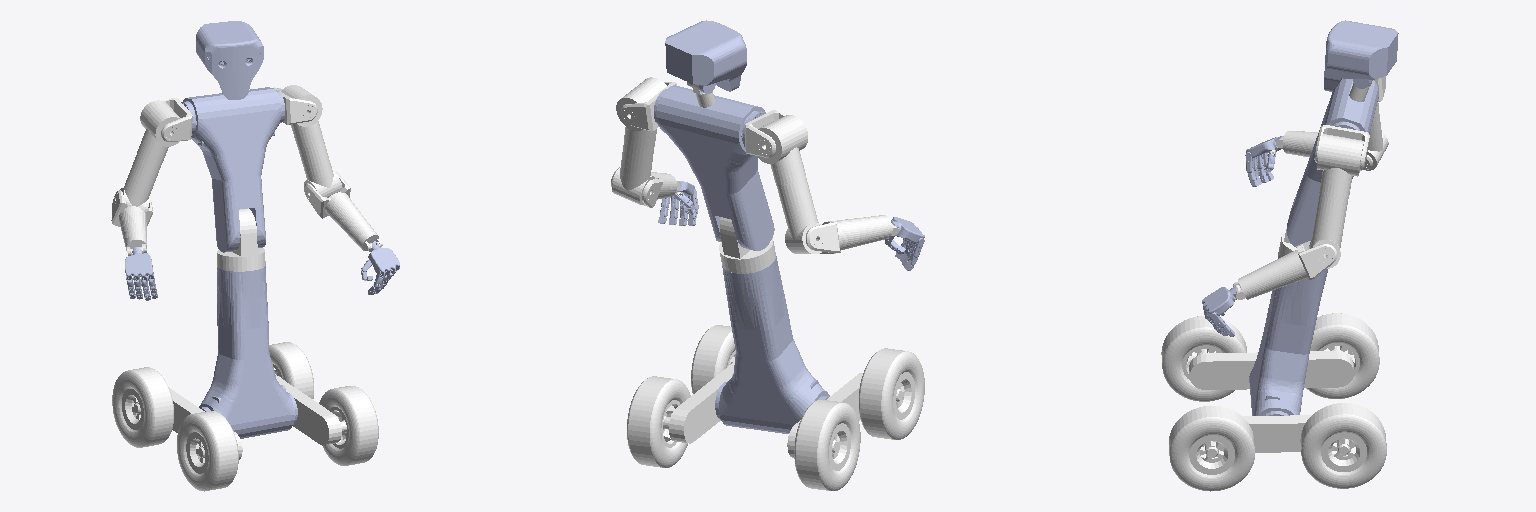
--- Render facts (derived) ---
The picture shows the robot from 3 angles, left to right: view 1: azimuth 30°, elevation 25°; view 2: azimuth 150°, elevation 25°; view 3: azimuth 270°, elevation 25°; orthographic projection.
Model rucobot with 62 links and 61 joints (60 continuous, 1 fixed), rooted at world, posed every joint at zero.
Links seen in each view (by area): view 1: base_link, Tors, shassi_r, shassi_l, golova, Sharnir_pojasa, plecho_r, predplechie_l, lokot_l, lokot_r, plecho_l, predplechie_r (+5 smaller); view 2: base_link, shassi_r, Tors, shassi_l, golova, plecho_r, lokot_r, lokot_l, Sharnir_pojasa, predplechie_r, plecho_l, sharnir_plecha_r (+2 smaller); view 3: shassi_l, shassi_r, base_link, golova, Tors, plecho_l, predplechie_l, lokot_l, sharnir_loktya_l, predplechie_r, sharnir_plecha_l, lokot_r (+1 smaller).
Link boxes in pixels (x1=…): base_link: x1=199, y1=266, x2=297, y2=438; Tors: x1=181, y1=87, x2=284, y2=252; shassi_r: x1=112, y1=367, x2=242, y2=491; shassi_l: x1=269, y1=342, x2=378, y2=465; golova: x1=196, y1=21, x2=263, y2=99; Sharnir_pojasa: x1=217, y1=208, x2=265, y2=271; plecho_r: x1=137, y1=100, x2=180, y2=163; predplechie_l: x1=325, y1=193, x2=382, y2=250; lokot_l: x1=297, y1=138, x2=342, y2=197; lokot_r: x1=120, y1=154, x2=161, y2=209; plecho_l: x1=281, y1=85, x2=322, y2=145; predplechie_r: x1=119, y1=206, x2=146, y2=255; base_link: x1=715, y1=256, x2=829, y2=433; shassi_r: x1=787, y1=348, x2=924, y2=490; Tors: x1=654, y1=85, x2=774, y2=250; shassi_l: x1=627, y1=325, x2=735, y2=467; golova: x1=665, y1=20, x2=746, y2=93; plecho_r: x1=757, y1=115, x2=807, y2=184; lokot_r: x1=776, y1=178, x2=821, y2=253; lokot_l: x1=612, y1=138, x2=654, y2=204; Sharnir_pojasa: x1=719, y1=217, x2=775, y2=273; predplechie_r: x1=822, y1=215, x2=898, y2=250; plecho_l: x1=616, y1=77, x2=666, y2=147; sharnir_plecha_r: x1=745, y1=110, x2=785, y2=157; shassi_l: x1=1169, y1=403, x2=1386, y2=491; shassi_r: x1=1161, y1=313, x2=1379, y2=401; base_link: x1=1249, y1=252, x2=1327, y2=415; golova: x1=1324, y1=20, x2=1398, y2=91; Tors: x1=1287, y1=78, x2=1378, y2=247; plecho_l: x1=1317, y1=134, x2=1364, y2=198; predplechie_l: x1=1233, y1=250, x2=1307, y2=299; lokot_l: x1=1309, y1=193, x2=1348, y2=268; sharnir_loktya_l: x1=1296, y1=241, x2=1336, y2=279; predplechie_r: x1=1276, y1=131, x2=1318, y2=157; sharnir_plecha_l: x1=1314, y1=125, x2=1369, y2=169; lokot_r: x1=1366, y1=110, x2=1388, y2=170.
Bounding box of the posed robot: 0.9582 × 0.719 × 1.43 m (x, y, z).
Meshes: 61 distinct files referenced, 61 mesh visuals loaded (61 binary STL).

URDF robot description (rucobot):
<robot
  name="rucobot">



 <gazebo>
  <plugin name="gazebo_ros_control" filename="[local-path]/rucobot_gazebo/gazebo_rucobot_plugin/build/librucobot_plugin.so">
    <robotNamespace>/rucobot</robotNamespace>
  </plugin>
</gazebo>

<link name="world" />
<joint name="world_joint"  type="fixed">
    <origin xyz="0 0 1.0" rpy="0 0 0" />
    <parent link="world"/>
    <child link="base_link"/>
</joint>



  <link
    name="base_link">
    <inertial>
      <origin
        xyz="0.00896240562713546 0.143186728221046 -0.0666263036048991"
        rpy="0 0 0" />
      <mass
        value="110.693325289998" />
      <inertia
        ixx="3.27626628742202"
        ixy="-0.181122746313554"
        ixz="0.0522061358243045"
        iyy="0.80236382109001"
        iyz="0.514583322796761"
        izz="3.55269170853019" />
    </inertial>
    <visual>
      <origin
        xyz="0 0 0"
        rpy="0 0 0" />
      <geometry>
        <mesh
          filename="package://rucobot/meshes/base_link.STL" />
      </geometry>
      <material
        name="">
        <color
          rgba="0.792156862745098 0.819607843137255 0.933333333333333 1" />
      </material>
    </visual>
    <collision>
      <origin
        xyz="0 0 0"
        rpy="0 0 0" />
      <geometry>
        <mesh
          filename="package://rucobot/meshes/base_link.STL" />
      </geometry>
    </collision>
  </link>
  <link
    name="Sharnir_pojasa">
    <inertial>
      <origin
        xyz="-2.25514051876985E-17 0.0752881183526605 -4.16333634234434E-17"
        rpy="0 0 0" />
      <mass
        value="2.89543871345231" />
      <inertia
        ixx="0.0130020130921996"
        ixy="2.80537312130624E-18"
        ixz="-1.30104260698261E-18"
        iyy="0.00713817950157839"
        iyz="2.49366499671666E-18"
        izz="0.0112358733148645" />
    </inertial>
    <visual>
      <origin
        xyz="0 0 0"
        rpy="0 0 0" />
      <geometry>
        <mesh
          filename="package://rucobot/meshes/Sharnir_pojasa.STL" />
      </geometry>
      <material
        name="">
        <color
          rgba="1 1 1 1" />
      </material>
    </visual>
    <collision>
      <origin
        xyz="0 0 0"
        rpy="0 0 0" />
      <geometry>
        <mesh
          filename="package://rucobot/meshes/Sharnir_pojasa.STL" />
      </geometry>
    </collision>
  </link>
  <joint
    name="j_Sharnir_pojasa"
    type="continuous">
    <origin
      xyz="0.0324436639883371 0.12429534174066 0.460919751635306"
      rpy="1.38421395302276 0.0519209406376816 -0.118124034255159" />
    <parent
      link="base_link" />
    <child
      link="Sharnir_pojasa" />
    <axis
      xyz="0 1 0" />
  </joint>
  <link
    name="Tors">
    <inertial>
      <origin
        xyz="7.47907391487196E-07 0.255052816813798 -3.41754965509367E-05"
        rpy="0 0 0" />
      <mass
        value="91.0754857328118" />
      <inertia
        ixx="1.7390726190761"
        ixy="3.01102176554317E-06"
        ixz="-9.22264127997674E-07"
        iyy="0.642500384537508"
        iyz="0.000215463623916334"
        izz="2.11023263578958" />
    </inertial>
    <visual>
      <origin
        xyz="0 0 0"
        rpy="0 0 0" />
      <geometry>
        <mesh
          filename="package://rucobot/meshes/Tors.STL" />
      </geometry>
      <material
        name="">
        <color
          rgba="0.792156862745098 0.819607843137255 0.933333333333333 1" />
      </material>
    </visual>
    <collision>
      <origin
        xyz="0 0 0"
        rpy="0 0 0" />
      <geometry>
        <mesh
          filename="package://rucobot/meshes/Tors.STL" />
      </geometry>
    </collision>
  </link>
  <joint
    name="j_Tors"
    type="continuous">
    <origin
      xyz="0 0.128188778698563 0"
      rpy="-0.128015279653219 1.62370117351429E-15 1.72431513512095E-15" />
    <parent
      link="Sharnir_pojasa" />
    <child
      link="Tors" />
    <axis
      xyz="1 0 0" />
  </joint>
  <link
    name="sharnir_plecha_r">
    <inertial>
      <origin
        xyz="-5.55111512312578E-17 -0.000417919871589234 0.0464830429041732"
        rpy="0 0 0" />
      <mass
        value="0.483647848803237" />
      <inertia
        ixx="0.000689027325543671"
        ixy="3.14079816841895E-18"
        ixz="-8.40256683676266E-19"
        iyy="0.00196973024679347"
        iyz="5.56154264020343E-05"
        izz="0.00183169819086114" />
    </inertial>
    <visual>
      <origin
        xyz="0 0 0"
        rpy="0 0 0" />
      <geometry>
        <mesh
          filename="package://rucobot/meshes/sharnir_plecha_r.STL" />
      </geometry>
      <material
        name="">
        <color
          rgba="1 1 1 1" />
      </material>
    </visual>
    <collision>
      <origin
        xyz="0 0 0"
        rpy="0 0 0" />
      <geometry>
        <mesh
          filename="package://rucobot/meshes/sharnir_plecha_r.STL" />
      </geometry>
    </collision>
  </link>
  <joint
    name="j_sharnir_plecha_r"
    type="continuous">
    <origin
      xyz="-0.152559658277971 0.390000000000005 0"
      rpy="1.5707963267949 -1.20891824044153 -1.5707963267949" />
    <parent
      link="Tors" />
    <child
      link="sharnir_plecha_r" />
    <axis
      xyz="0 0 -1" />
  </joint>
  <link
    name="plecho_r">
    <inertial>
      <origin
        xyz="-3.57087203139983E-08 -0.0251544798237647 5.104894745811E-08"
        rpy="0 0 0" />
      <mass
        value="2.34279641012503" />
      <inertia
        ixx="0.0078816597365252"
        ixy="-2.32104730132411E-09"
        ixz="-5.87356074909819E-10"
        iyy="0.00430171909143169"
        iyz="5.96776679538235E-09"
        izz="0.00692854772981026" />
    </inertial>
    <visual>
      <origin
        xyz="0 0 0"
        rpy="0 0 0" />
      <geometry>
        <mesh
          filename="package://rucobot/meshes/plecho_r.STL" />
      </geometry>
      <material
        name="">
        <color
          rgba="1 1 1 1" />
      </material>
    </visual>
    <collision>
      <origin
        xyz="0 0 0"
        rpy="0 0 0" />
      <geometry>
        <mesh
          filename="package://rucobot/meshes/plecho_r.STL" />
      </geometry>
    </collision>
  </link>
  <joint
    name="j_plecho_r"
    type="continuous">
    <origin
      xyz="0 -0.0079999999999999 0.0934403417220299"
      rpy="-1.57079632679491 1.25964358109242 -1.57079632679491" />
    <parent
      link="sharnir_plecha_r" />
    <child
      link="plecho_r" />
    <axis
      xyz="0 0 1" />
  </joint>
  <link
    name="lokot_r">
    <inertial>
      <origin
        xyz="-6.79035919437521E-08 -0.156514593189435 -1.94538884668027E-07"
        rpy="0 0 0" />
      <mass
        value="2.01481430087266" />
      <inertia
        ixx="0.00923322974059326"
        ixy="1.02896168592846E-08"
        ixz="7.84993727854545E-09"
        iyy="0.00229149406048785"
        iyz="2.4371602142312E-08"
        izz="0.009136443859641" />
    </inertial>
    <visual>
      <origin
        xyz="0 0 0"
        rpy="0 0 0" />
      <geometry>
        <mesh
          filename="package://rucobot/meshes/lokot_r.STL" />
      </geometry>
      <material
        name="">
        <color
          rgba="1 1 1 1" />
      </material>
    </visual>
    <collision>
      <origin
        xyz="0 0 0"
        rpy="0 0 0" />
      <geometry>
        <mesh
          filename="package://rucobot/meshes/lokot_r.STL" />
      </geometry>
    </collision>
  </link>
  <joint
    name="j_lokot_r"
    type="continuous">
    <origin
      xyz="0 -0.082274948812524 0"
      rpy="-4.72451924255783E-17 1.27265955777084 4.72451924255783E-17" />
    <parent
      link="plecho_r" />
    <child
      link="lokot_r" />
    <axis
      xyz="0 1 0" />
  </joint>
  <link
    name="sharnir_loktya_r">
    <inertial>
      <origin
        xyz="0.0012000000000002 0.00752035460033429 -0.0437637690424815"
        rpy="0 0 0" />
      <mass
        value="0.413649568915566" />
      <inertia
        ixx="0.000609935633827668"
        ixy="9.3173624197973E-19"
        ixz="3.52365706057789E-19"
        iyy="0.0012155913352192"
        iyz="5.49949777303547E-05"
        izz="0.00106159012481743" />
    </inertial>
    <visual>
      <origin
        xyz="0 0 0"
        rpy="0 0 0" />
      <geometry>
        <mesh
          filename="package://rucobot/meshes/sharnir_loktya_r.STL" />
      </geometry>
      <material
        name="">
        <color
          rgba="1 1 1 1" />
      </material>
    </visual>
    <collision>
      <origin
        xyz="0 0 0"
        rpy="0 0 0" />
      <geometry>
        <mesh
          filename="package://rucobot/meshes/sharnir_loktya_r.STL" />
      </geometry>
    </collision>
  </link>
  <joint
    name="j_sharnir_loktya_r"
    type="continuous">
    <origin
      xyz="0 -0.219725051187477 0"
      rpy="2.11707742464578 -1.57079630572147 1.18530245986557" />
    <parent
      link="lokot_r" />
    <child
      link="sharnir_loktya_r" />
    <axis
      xyz="1 0 0" />
  </joint>
  <link
    name="predplechie_r">
    <inertial>
      <origin
        xyz="-1.7798515558054E-06 -3.95550856513438E-08 0.0351725822698449"
        rpy="0 0 0" />
      <mass
        value="1.44692785130132" />
      <inertia
        ixx="0.00554237235769671"
        ixy="2.92450993731255E-09"
        ixz="3.43553871257052E-07"
        iyy="0.00555465523324006"
        iyz="-6.73221239377443E-09"
        izz="0.00121510080819449" />
    </inertial>
    <visual>
      <origin
        xyz="0 0 0"
        rpy="0 0 0" />
      <geometry>
        <mesh
          filename="package://rucobot/meshes/predplechie_r.STL" />
      </geometry>
      <material
        name="">
        <color
          rgba="1 1 1 1" />
      </material>
    </visual>
    <collision>
      <origin
        xyz="0 0 0"
        rpy="0 0 0" />
      <geometry>
        <mesh
          filename="package://rucobot/meshes/predplechie_r.STL" />
      </geometry>
    </collision>
  </link>
  <joint
    name="j_predplechie_r"
    type="continuous">
    <origin
      xyz="0.00119999999999998 0.00799999999999995 -0.133508449810852"
      rpy="3.14159265358979 -1.11022302462516E-15 -0.53391242034869" />
    <parent
      link="sharnir_loktya_r" />
    <child
      link="predplechie_r" />
    <axis
      xyz="0 0 1" />
  </joint>
  <link
    name="zapastie_r">
    <inertial>
      <origin
        xyz="-1.04664132916099E-09 -0.00589607999069064 -1.04964131830698E-09"
        rpy="0 0 0" />
      <mass
        value="0.0217508242970435" />
      <inertia
        ixx="4.06194784093122E-06"
        ixy="-2.45268871910205E-16"
        ixz="8.50053638797777E-14"
        iyy="3.36484861459115E-06"
        iyz="-3.8697037155607E-14"
        izz="2.22565604195955E-06" />
    </inertial>
    <visual>
      <origin
        xyz="0 0 0"
        rpy="0 0 0" />
      <geometry>
        <mesh
          filename="package://rucobot/meshes/zapastie_r.STL" />
      </geometry>
      <material
        name="">
        <color
          rgba="1 1 1 1" />
      </material>
    </visual>
    <collision>
      <origin
        xyz="0 0 0"
        rpy="0 0 0" />
      <geometry>
        <mesh
          filename="package://rucobot/meshes/zapastie_r.STL" />
      </geometry>
    </collision>
  </link>
  <joint
    name="j_zapastie_r"
    type="continuous">
    <origin
      xyz="0 0 0.156491550189148"
      rpy="-1.57079632679489 0.440819351327512 -1.57079632679489" />
    <parent
      link="predplechie_r" />
    <child
      link="zapastie_r" />
    <axis
      xyz="0 0 1" />
  </joint>
  <link
    name="ladon_r">
    <inertial>
      <origin
        xyz="-6.47388532412085E-05 0.0148875426551344 -0.0600543658421324"
        rpy="0 0 0" />
      <mass
        value="1.08106591463832" />
      <inertia
        ixx="0.000891133654287213"
        ixy="6.32719482747059E-06"
        ixz="-6.26660419026385E-05"
        iyy="0.00150683429989842"
        iyz="6.06421193468183E-05"
        izz="0.000901985440312453" />
    </inertial>
    <visual>
      <origin
        xyz="0 0 0"
        rpy="0 0 0" />
      <geometry>
        <mesh
          filename="package://rucobot/meshes/ladon_r.STL" />
      </geometry>
      <material
        name="">
        <color
          rgba="0.792156862745098 0.819607843137255 0.933333333333333 1" />
      </material>
    </visual>
    <collision>
      <origin
        xyz="0 0 0"
        rpy="0 0 0" />
      <geometry>
        <mesh
          filename="package://rucobot/meshes/ladon_r.STL" />
      </geometry>
    </collision>
  </link>
  <joint
    name="j_ladon_r"
    type="continuous">
    <origin
      xyz="0.01 0 0"
      rpy="9.15512301598293E-15 1.54957284180814 1.57079632679491" />
    <parent
      link="zapastie_r" />
    <child
      link="ladon_r" />
    <axis
      xyz="0 1 0" />
  </joint>
  <link
    name="bolshoj_osnova_r">
    <inertial>
      <origin
        xyz="4.19799951745237E-10 -0.00335807108592345 -0.0130909322427476"
        rpy="0 0 0" />
      <mass
        value="0.00474130036735066" />
      <inertia
        ixx="3.37852137237324E-07"
        ixy="-4.86828927839104E-14"
        ixz="-7.04558877625359E-15"
        iyy="3.1589290051608E-07"
        iyz="-2.3864698266401E-10"
        izz="1.60033928668896E-07" />
    </inertial>
    <visual>
      <origin
        xyz="0 0 0"
        rpy="0 0 0" />
      <geometry>
        <mesh
          filename="package://rucobot/meshes/bolshoj_osnova_r.STL" />
      </geometry>
      <material
        name="">
        <color
          rgba="1 1 1 1" />
      </material>
    </visual>
    <collision>
      <origin
        xyz="0 0 0"
        rpy="0 0 0" />
      <geometry>
        <mesh
          filename="package://rucobot/meshes/bolshoj_osnova_r.STL" />
      </geometry>
    </collision>
  </link>
  <joint
    name="j_bolshoj_osnova_r"
    type="continuous">
    <origin
      xyz="-0.0286581524376238 -0.0091182634575131 -0.034153456124651"
      rpy="-0.538307860312293 0.724748995496491 2.40837849957916" />
    <parent
      link="ladon_r" />
    <child
      link="bolshoj_osnova_r" />
    <axis
      xyz="0 0 1" />
  </joint>
  <link
    name="proximal_falang_bolshoj_r">
    <inertial>
      <origin
        xyz="-5.23938518520728E-06 -5.2210677090922E-05 -0.0239061195962711"
        rpy="0 0 0" />
      <mass
        value="0.0127054069053591" />
      <inertia
        ixx="2.86639320583508E-06"
        ixy="6.97115154240719E-10"
        ixz="2.23121531964007E-09"
        iyy="3.05917929449315E-06"
        iyz="-1.83328751292656E-08"
        izz="9.46060157823877E-07" />
    </inertial>
    <visual>
      <origin
        xyz="0 0 0"
        rpy="0 0 0" />
      <geometry>
        <mesh
          filename="package://rucobot/meshes/proximal_falang_bolshoj_r.STL" />
      </geometry>
      <material
        name="">
        <color
          rgba="0.792156862745098 0.819607843137255 0.933333333333333 1" />
      </material>
    </visual>
    <collision>
      <origin
        xyz="0 0 0"
        rpy="0 0 0" />
      <geometry>
        <mesh
          filename="package://rucobot/meshes/proximal_falang_bolshoj_r.STL" />
      </geometry>
    </collision>
  </link>
  <joint
    name="j_proximal_falang_bolshoj_r"
    type="continuous">
    <origin
      xyz="0 -0.00450030689800585 -0.0119955807398704"
      rpy="-1.53541465104474 3.21964677141295E-15 -3.14159265358979" />
    <parent
      link="bolshoj_osnova_r" />
    <child
      link="proximal_falang_bolshoj_r" />
    <axis
      xyz="-1 0 0" />
  </joint>
  <link
    name="medial_falanga_bolshoy_r">
    <inertial>
      <origin
        xyz="6.55384677013954E-06 0.000130045033781889 -0.0119984514335008"
        rpy="0 0 0" />
      <mass
        value="0.00791977216682233" />
      <inertia
        ixx="1.05619347410482E-06"
        ixy="-4.46120500449778E-10"
        ixz="3.65251666165924E-10"
        iyy="1.11379864890593E-06"
        iyz="1.76450959601349E-09"
        izz="4.23085079342307E-07" />
    </inertial>
    <visual>
      <origin
        xyz="0 0 0"
        rpy="0 0 0" />
      <geometry>
        <mesh
          filename="package://rucobot/meshes/medial_falanga_bolshoy_r.STL" />
      </geometry>
      <material
        name="">
        <color
          rgba="0.792156862745098 0.819607843137255 0.933333333333333 1" />
      </material>
    </visual>
    <collision>
      <origin
        xyz="0 0 0"
        rpy="0 0 0" />
      <geometry>
        <mesh
          filename="package://rucobot/meshes/medial_falanga_bolshoy_r.STL" />
      </geometry>
    </collision>
  </link>
  <joint
    name="j_medial_falanga_bolshoy_r"
    type="continuous">
    <origin
      xyz="0 0 -0.046"
      rpy="1.36758612535518 2.77555756156289E-15 -3.77475828372553E-15" />
    <parent
      link="proximal_falang_bolshoj_r" />
    <child
      link="medial_falanga_bolshoy_r" />
    <axis
      xyz="-1 0 0" />
  </joint>
  <link
    name="distal_falang_bolshoy_r">
    <inertial>
      <origin
        xyz="3.92154068756811E-05 0.000417281517116508 -0.0118731915217587"
        rpy="0 0 0" />
      <mass
        value="0.00792541591651875" />
      <inertia
        ixx="8.03956797183496E-07"
        ixy="7.6829507535464E-10"
        ixz="-4.5580873059853E-10"
        iyy="8.45143255076546E-07"
        iyz="2.03832775785514E-08"
        izz="3.60348680190019E-07" />
    </inertial>
    <visual>
      <origin
        xyz="0 0 0"
        rpy="0 0 0" />
      <geometry>
        <mesh
          filename="package://rucobot/meshes/distal_falang_bolshoy_r.STL" />
      </geometry>
      <material
        name="">
        <color
          rgba="0.792156862745098 0.819607843137255 0.933333333333333 1" />
      </material>
    </visual>
    <collision>
      <origin
        xyz="0 0 0"
        rpy="0 0 0" />
      <geometry>
        <mesh
          filename="package://rucobot/meshes/distal_falang_bolshoy_r.STL" />
      </geometry>
    </collision>
  </link>
  <joint
    name="j_distal_falang_bolshoy_r"
    type="continuous">
    <origin
      xyz="0 0 -0.028"
      rpy="0.100089852496194 1.38777878078145E-16 4.71844785465692E-16" />
    <parent
      link="medial_falanga_bolshoy_r" />
    <child
      link="distal_falang_bolshoy_r" />
    <axis
      xyz="-1 0 0" />
  </joint>
  <link
    name="sharnir_palec_ukaz_r">
    <inertial>
      <origin
        xyz="-0.000193153382844535 0.0128827511145122 0.000976445564656314"
        rpy="0 0 0" />
      <mass
        value="0.00247996543491179" />
      <inertia
        ixx="1.41865551830605E-07"
        ixy="-9.26852843332831E-10"
        ixz="3.83359475079865E-10"
        iyy="9.2261616247985E-08"
        iyz="2.5931712623689E-09"
        izz="1.17684729475178E-07" />
    </inertial>
    <visual>
      <origin
        xyz="0 0 0"
        rpy="0 0 0" />
      <geometry>
        <mesh
          filename="package://rucobot/meshes/sharnir_palec_ukaz_r.STL" />
      </geometry>
      <material
        name="">
        <color
          rgba="0.792156862745098 0.819607843137255 0.933333333333333 1" />
      </material>
    </visual>
    <collision>
      <origin
        xyz="0 0 0"
        rpy="0 0 0" />
      <geometry>
        <mesh
          filename="package://rucobot/meshes/sharnir_palec_ukaz_r.STL" />
      </geometry>
    </collision>
  </link>
  <joint
    name="j_sharnir_palec_ukaz_r"
    type="continuous">
    <origin
      xyz="-0.0344897812276514 0 -0.108498873951481"
      rpy="1.05474492964217E-15 -0.00791715577020176 -6.38398246888684E-16" />
    <parent
      link="ladon_r" />
    <child
      link="sharnir_palec_ukaz_r" />
    <axis
      xyz="0 1 0" />
  </joint>
  <link
    name="proximal_falanga_ukaz_r">
    <inertial>
      <origin
        xyz="-5.26035150005821E-06 -0.000891513361063051 -0.0220907411071198"
        rpy="0 0 0" />
      <mass
        value="0.0127053504794185" />
      <inertia
        ixx="2.86639045662399E-06"
        ixy="6.97094460055562E-10"
        ixz="2.23310362197986E-09"
        iyy="3.05917464287808E-06"
        iyz="-1.83344291554736E-08"
        izz="9.4605504612959E-07" />
    </inertial>
    <visual>
      <origin
        xyz="0 0 0"
        rpy="0 0 0" />
      <geometry>
        <mesh
          filename="package://rucobot/meshes/proximal_falanga_ukaz_r.STL" />
      </geometry>
      <material
        name="">
        <color
          rgba="0.792156862745098 0.819607843137255 0.933333333333333 1" />
      </material>
    </visual>
    <collision>
      <origin
        xyz="0 0 0"
        rpy="0 0 0" />
      <geometry>
        <mesh
          filename="package://rucobot/meshes/proximal_falanga_ukaz_r.STL" />
      </geometry>
    </collision>
  </link>
  <joint
    name="j_proximal_falanga_ukaz_r"
    type="continuous">
    <origin
      xyz="0 0.0100000000000001 0"
      rpy="1.1377297013671 -2.1094237467878E-15 -3.14159265358979" />
    <parent
      link="sharnir_palec_ukaz_r" />
    <child
      link="proximal_falanga_ukaz_r" />
    <axis
      xyz="1 0 0" />
  </joint>
  <link
    name="medial_falanga_ukaz_r">
    <inertial>
      <origin
        xyz="6.55522680167997E-06 0.000130046406959381 -0.0119984527242808"
        rpy="0 0 0" />
      <mass
        value="0.00791977462844531" />
      <inertia
        ixx="1.05619325935074E-06"
        ixy="-4.45970137735974E-10"
        ixz="3.65325276690034E-10"
        iyy="1.11379946854126E-06"
        iyz="1.76458465277697E-09"
        izz="4.23085507822775E-07" />
    </inertial>
    <visual>
      <origin
        xyz="0 0 0"
        rpy="0 0 0" />
      <geometry>
        <mesh
          filename="package://rucobot/meshes/medial_falanga_ukaz_r.STL" />
      </geometry>
      <material
        name="">
        <color
          rgba="0.792156862745098 0.819607843137255 0.933333333333333 1" />
      </material>
    </visual>
    <collision>
      <origin
        xyz="0 0 0"
        rpy="0 0 0" />
      <geometry>
        <mesh
          filename="package://rucobot/meshes/medial_falanga_ukaz_r.STL" />
      </geometry>
    </collision>
  </link>
  <joint
    name="j_medial_falanga_ukaz_r"
    type="continuous">
    <origin
      xyz="0 -0.000839312590752428 -0.0441846338179298"
      rpy="0.279340232513703 -1.07899800205757E-15 -2.99760216648792E-15" />
    <parent
      link="proximal_falanga_ukaz_r" />
    <child
      link="medial_falanga_ukaz_r" />
    <axis
      xyz="1 0 0" />
  </joint>
  <link
    name="distal_falanga_ukaz_r">
    <inertial>
      <origin
        xyz="3.92153936591699E-05 0.000417275867378497 -0.0118731930583748"
        rpy="0 0 0" />
      <mass
        value="0.0079254188732141" />
      <inertia
        ixx="8.03957000782904E-07"
        ixy="7.68330153255766E-10"
        ixz="-4.55853260357411E-10"
        iyy="8.45142929513572E-07"
        iyz="2.03828711549808E-08"
        izz="3.60349224085866E-07" />
    </inertial>
    <visual>
      <origin
        xyz="0 0 0"
        rpy="0 0 0" />
      <geometry>
        <mesh
          filename="package://rucobot/meshes/distal_falanga_ukaz_r.STL" />
      </geometry>
      <material
        name="">
        <color
          rgba="0.792156862745098 0.819607843137255 0.933333333333333 1" />
      </material>
    </visual>
    <collision>
      <origin
        xyz="0 0 0"
        rpy="0 0 0" />
      <geometry>
        <mesh
          filename="package://rucobot/meshes/distal_falanga_ukaz_r.STL" />
      </geometry>
    </collision>
  </link>
  <joint
    name="j_distal_falanga_ukaz_r"
    type="continuous">
    <origin
      xyz="0 0 -0.028"
      rpy="0.119960369182583 1.80411241501588E-15 3.94129173741931E-15" />
    <parent
      link="medial_falanga_ukaz_r" />
    <child
      link="distal_falanga_ukaz_r" />
    <axis
      xyz="1 0 0" />
  </joint>
  <link
    name="sharnir_palec_sred_r">
    <inertial>
      <origin
        xyz="-0.000193153369787091 0.012882751170144 0.000976445576276658"
        rpy="0 0 0" />
      <mass
        value="0.00247996542161917" />
      <inertia
        ixx="1.41865551095611E-07"
        ixy="-9.26852312626341E-10"
        ixz="3.8335967342116E-10"
        iyy="9.22616164532978E-08"
        iyz="2.59317102663361E-09"
        izz="1.1768472838733E-07" />
    </inertial>
    <visual>
      <origin
        xyz="0 0 0"
        rpy="0 0 0" />
      <geometry>
        <mesh
          filename="package://rucobot/meshes/sharnir_palec_sred_r.STL" />
      </geometry>
      <material
        name="">
        <color
          rgba="0.792156862745098 0.819607843137255 0.933333333333333 1" />
      </material>
    </visual>
    <collision>
      <origin
        xyz="0 0 0"
        rpy="0 0 0" />
      <geometry>
        <mesh
          filename="package://rucobot/meshes/sharnir_palec_sred_r.STL" />
      </geometry>
    </collision>
  </link>
  <joint
    name="j_sharnir_palec_sred_r"
    type="continuous">
    <origin
      xyz="-0.0104897812276514 0 -0.108498873951481"
      rpy="8.88179236949472E-16 -0.00135656939203248 -5.5511202309342E-16" />
    <parent
      link="ladon_r" />
    <child
      link="sharnir_palec_sred_r" />
    <axis
      xyz="0 1 0" />
  </joint>
  <link
    name="proximal_falang_sred_r">
    <inertial>
      <origin
        xyz="-5.24538932972218E-06 -0.000764007871692715 -0.0220370289612765"
        rpy="0 0 0" />
      <mass
        value="0.0127054003585438" />
      <inertia
        ixx="2.86639897597621E-06"
        ixy="6.97336798050115E-10"
        ixz="2.23142471997764E-09"
        iyy="3.0591818263558E-06"
        iyz="-1.83365026344937E-08"
        izz="9.46063878677674E-07" />
    </inertial>
    <visual>
      <origin
        xyz="0 0 0"
        rpy="0 0 0" />
      <geometry>
        <mesh
          filename="package://rucobot/meshes/proximal_falang_sred_r.STL" />
      </geometry>
      <material
        name="">
        <color
          rgba="0.792156862745098 0.819607843137255 0.933333333333333 1" />
      </material>
    </visual>
    <collision>
      <origin
        xyz="0 0 0"
        rpy="0 0 0" />
      <geometry>
        <mesh
          filename="package://rucobot/meshes/proximal_falang_sred_r.STL" />
      </geometry>
    </collision>
  </link>
  <joint
    name="j_proximal_falang_sred_r"
    type="continuous">
    <origin
      xyz="0 0.0099999999999999 0"
      rpy="1.20690791788773 4.49640324973188E-15 -3.14159265358979" />
    <parent
      link="sharnir_palec_sred_r" />
    <child
      link="proximal_falang_sred_r" />
    <axis
      xyz="1 0 0" />
  </joint>
  <link
    name="medial_falanga_sred_r">
    <inertial>
      <origin
        xyz="6.55357717266325E-06 0.000130049654450709 -0.0119984510226461"
        rpy="0 0 0" />
      <mass
        value="0.00791977234201001" />
      <inertia
        ixx="1.05619291900999E-06"
        ixy="-4.45982191184273E-10"
        ixz="3.65250779577625E-10"
        iyy="1.11379932658631E-06"
        iyz="1.7647397736726E-09"
        izz="4.23085271634541E-07" />
    </inertial>
    <visual>
      <origin
        xyz="0 0 0"
        rpy="0 0 0" />
      <geometry>
        <mesh
          filename="package://rucobot/meshes/medial_falanga_sred_r.STL" />
      </geometry>
      <material
        name="">
        <color
          rgba="0.792156862745098 0.819607843137255 0.933333333333333 1" />
      </material>
    </visual>
    <collision>
      <origin
        xyz="0 0 0"
        rpy="0 0 0" />
      <geometry>
        <mesh
          filename="package://rucobot/meshes/medial_falanga_sred_r.STL" />
      </geometry>
    </collision>
  </link>
  <joint
    name="j_medial_falanga_sred_r"
    type="continuous">
    <origin
      xyz="0 -0.000711821421017458 -0.0441309600687572"
      rpy="-0.00268212479129566 -5.55111512312578E-17 -5.55111512312578E-16" />
    <parent
      link="proximal_falang_sred_r" />
    <child
      link="medial_falanga_sred_r" />
    <axis
      xyz="1 0 0" />
  </joint>
  <link
    name="distal_falanga_sred_r">
    <inertial>
      <origin
        xyz="3.92154219823748E-05 0.000417275965494429 -0.0118731930301309"
        rpy="0 0 0" />
      <mass
        value="0.00792541888961152" />
      <inertia
        ixx="8.03956999693197E-07"
        ixy="7.68331841671289E-10"
        ixz="-4.55853279067085E-10"
        iyy="8.45142932417291E-07"
        iyz="2.0382887369943E-08"
        izz="3.60349222159747E-07" />
    </inertial>
    <visual>
      <origin
        xyz="0 0 0"
        rpy="0 0 0" />
      <geometry>
        <mesh
          filename="package://rucobot/meshes/distal_falanga_sred_r.STL" />
      </geometry>
      <material
        name="">
        <color
          rgba="0.792156862745098 0.819607843137255 0.933333333333333 1" />
      </material>
    </visual>
    <collision>
      <origin
        xyz="0 0 0"
        rpy="0 0 0" />
      <geometry>
        <mesh
          filename="package://rucobot/meshes/distal_falanga_sred_r.STL" />
      </geometry>
    </collision>
  </link>
  <joint
    name="j_distal_falanga_sred_r"
    type="continuous">
    <origin
      xyz="0 0 -0.0279999999999949"
      rpy="0.332359663935568 -1.83880688453542E-15 5.49560397189452E-15" />
    <parent
      link="medial_falanga_sred_r" />
    <child
      link="distal_falanga_sred_r" />
    <axis
      xyz="1 0 0" />
  </joint>
  <link
    name="sharnir_palec_bezim_r">
    <inertial>
      <origin
        xyz="-0.00019315354677002 0.0128827504574321 0.000976445416346006"
        rpy="0 0 0" />
      <mass
        value="0.00247996553730472" />
      <inertia
        ixx="1.41865558198729E-07"
        ixy="-9.2685973873461E-10"
        ixz="3.83355961553702E-10"
        iyy="9.22616150177656E-08"
        iyz="2.59317386453103E-09"
        izz="1.17684739297148E-07" />
    </inertial>
    <visual>
      <origin
        xyz="0 0 0"
        rpy="0 0 0" />
      <geometry>
        <mesh
          filename="package://rucobot/meshes/sharnir_palec_bezim_r.STL" />
      </geometry>
      <material
        name="">
        <color
          rgba="0.792156862745098 0.819607843137255 0.933333333333333 1" />
      </material>
    </visual>
    <collision>
      <origin
        xyz="0 0 0"
        rpy="0 0 0" />
      <geometry>
        <mesh
          filename="package://rucobot/meshes/sharnir_palec_bezim_r.STL" />
      </geometry>
    </collision>
  </link>
  <joint
    name="j_sharnir_palec_bezim_r"
    type="continuous">
    <origin
      xyz="0.0135102187723486 0 -0.104498873951481"
      rpy="1.05894859269979E-15 -0.0894823348823763 -7.24543773952485E-16" />
    <parent
      link="ladon_r" />
    <child
      link="sharnir_palec_bezim_r" />
    <axis
      xyz="0 1 0" />
  </joint>
  <link
    name="proximal_falang_bezim_r">
    <inertial>
      <origin
        xyz="0.00166311725820534 0.00355963129049373 -0.0228313156496764"
        rpy="0 0 0" />
      <mass
        value="0.0127054241473309" />
      <inertia
        ixx="2.86640390593706E-06"
        ixy="6.97189332527897E-10"
        ixz="2.23070105816459E-09"
        iyy="3.05918592633367E-06"
        iyz="-1.83386411402424E-08"
        izz="9.46069085922352E-07" />
    </inertial>
    <visual>
      <origin
        xyz="0 0 0"
        rpy="0 0 0" />
      <geometry>
        <mesh
          filename="package://rucobot/meshes/proximal_falang_bezim_r.STL" />
      </geometry>
      <material
        name="">
        <color
          rgba="0.792156862745098 0.819607843137255 0.933333333333333 1" />
      </material>
    </visual>
    <collision>
      <origin
        xyz="0 0 0"
        rpy="0 0 0" />
      <geometry>
        <mesh
          filename="package://rucobot/meshes/proximal_falang_bezim_r.STL" />
      </geometry>
    </collision>
  </link>
  <joint
    name="j_proximal_falang_bezim_r"
    type="continuous">
    <origin
      xyz="0.00166836028512618 0.0119999999999999 -0.00376831251385637"
      rpy="1.28157692527836 -1.88737914186277E-15 -3.14159265358979" />
    <parent
      link="sharnir_palec_bezim_r" />
    <child
      link="proximal_falang_bezim_r" />
    <axis
      xyz="1 0 0" />
  </joint>
  <link
    name="medial_falanga_bezim_r">
    <inertial>
      <origin
        xyz="0.000102111063495225 0.0102908853869345 -0.0120727140350391"
        rpy="0 0 0" />
      <mass
        value="0.00791977341401348" />
      <inertia
        ixx="1.05619310368821E-06"
        ixy="-4.45976307850043E-10"
        ixz="3.65319692951049E-10"
        iyy="1.11379935771335E-06"
        iyz="1.76465752129383E-09"
        izz="4.23085374075977E-07" />
    </inertial>
    <visual>
      <origin
        xyz="0 0 0"
        rpy="0 0 0" />
      <geometry>
        <mesh
          filename="package://rucobot/meshes/medial_falanga_bezim_r.STL" />
      </geometry>
      <material
        name="">
        <color
          rgba="0.792156862745098 0.819607843137255 0.933333333333333 1" />
      </material>
    </visual>
    <collision>
      <origin
        xyz="0 0 0"
        rpy="0 0 0" />
      <geometry>
        <mesh
          filename="package://rucobot/meshes/medial_falanga_bezim_r.STL" />
      </geometry>
    </collision>
  </link>
  <joint
    name="j_medial_falanga_bezim_r"
    type="continuous">
    <origin
      xyz="0.00157280438069707 -0.00653266306270058 -0.0455065995179739"
      rpy="0.0645518450447267 1.36002320516582E-15 2.66453525910038E-15" />
    <parent
      link="proximal_falang_bezim_r" />
    <child
      link="medial_falanga_bezim_r" />
    <axis
      xyz="1 0 0" />
  </joint>
  <link
    name="distal_falanga_bezim_r">
    <inertial>
      <origin
        xyz="-0.000214544039056352 0.00839367616821542 -0.0136113780165271"
        rpy="0 0 0" />
      <mass
        value="0.00792541904402243" />
      <inertia
        ixx="8.03957050274266E-07"
        ixy="7.68327178805074E-10"
        ixz="-4.55837912992235E-10"
        iyy="8.4514294355257E-07"
        iyz="2.03826593414619E-08"
        izz="3.60349288339167E-07" />
    </inertial>
    <visual>
      <origin
        xyz="0 0 0"
        rpy="0 0 0" />
      <geometry>
        <mesh
          filename="package://rucobot/meshes/distal_falanga_bezim_r.STL" />
      </geometry>
      <material
        name="">
        <color
          rgba="0.792156862745098 0.819607843137255 0.933333333333333 1" />
      </material>
    </visual>
    <collision>
      <origin
        xyz="0 0 0"
        rpy="0 0 0" />
      <geometry>
        <mesh
          filename="package://rucobot/meshes/distal_falanga_bezim_r.STL" />
      </geometry>
    </collision>
  </link>
  <joint
    name="j_distal_falanga_bezim_r"
    type="continuous">
    <origin
      xyz="0.00034931539619254 0.00199858256054334 -0.027926396948097"
      rpy="0.196447738566652 -5.55111512312578E-17 6.10622663543836E-16" />
    <parent
      link="medial_falanga_bezim_r" />
    <child
      link="distal_falanga_bezim_r" />
    <axis
      xyz="1 0 0" />
  </joint>
  <link
    name="sharnir_palec_miz_r">
    <inertial>
      <origin
        xyz="-0.000193153411590707 0.0128827509991224 0.000976445540574328"
        rpy="0 0 0" />
      <mass
        value="0.00247996546169134" />
      <inertia
        ixx="1.41865553323842E-07"
        ixy="-9.26853977290154E-10"
        ixz="3.83359031499236E-10"
        iyy="9.22616158357964E-08"
        iyz="2.59317174766756E-09"
        izz="1.17684731679556E-07" />
    </inertial>
    <visual>
      <origin
        xyz="0 0 0"
        rpy="0 0 0" />
      <geometry>
        <mesh
          filename="package://rucobot/meshes/sharnir_palec_miz_r.STL" />
      </geometry>
      <material
        name="">
        <color
          rgba="0.792156862745098 0.819607843137255 0.933333333333333 1" />
      </material>
    </visual>
    <collision>
      <origin
        xyz="0 0 0"
        rpy="0 0 0" />
      <geometry>
        <mesh
          filename="package://rucobot/meshes/sharnir_palec_miz_r.STL" />
      </geometry>
    </collision>
  </link>
  <joint
    name="j_sharnir_palec_miz_r"
    type="continuous">
    <origin
      xyz="0.0375102187723486 0 -0.0984988739514813"
      rpy="1.05495627598233E-15 -0.021525787722799 -7.21812188830018E-16" />
    <parent
      link="ladon_r" />
    <child
      link="sharnir_palec_miz_r" />
    <axis
      xyz="0 1 0" />
  </joint>
  <link
    name="proximal_falang_miz_r">
    <inertial>
      <origin
        xyz="0.0017804668457026 0.00954535336580347 -0.0211955328218579"
        rpy="0 0 0" />
      <mass
        value="0.0127054359043651" />
      <inertia
        ixx="2.86640705208762E-06"
        ixy="6.96910805591186E-10"
        ixz="2.23054610682619E-09"
        iyy="3.05918813546681E-06"
        iyz="-1.83401993264741E-08"
        izz="9.46072681427814E-07" />
    </inertial>
    <visual>
      <origin
        xyz="0 0 0"
        rpy="0 0 0" />
      <geometry>
        <mesh
          filename="package://rucobot/meshes/proximal_falang_miz_r.STL" />
      </geometry>
      <material
        name="">
        <color
          rgba="0.792156862745098 0.819607843137255 0.933333333333333 1" />
      </material>
    </visual>
    <collision>
      <origin
        xyz="0 0 0"
        rpy="0 0 0" />
      <geometry>
        <mesh
          filename="package://rucobot/meshes/proximal_falang_miz_r.STL" />
      </geometry>
    </collision>
  </link>
  <joint
    name="j_proximal_falang_miz_r"
    type="continuous">
    <origin
      xyz="0.0017857093560632 0.0119999999999997 -0.00997291781738271"
      rpy="1.29554718159783 -1.38777878078145E-15 -3.14159265358979" />
    <parent
      link="sharnir_palec_miz_r" />
    <child
      link="proximal_falang_miz_r" />
    <axis
      xyz="1 0 0" />
  </joint>
  <link
    name="medial_falanga_miz_r">
    <inertial>
      <origin
        xyz="0.0014620783378807 0.0138538536032017 -0.00980234066312013"
        rpy="0 0 0" />
      <mass
        value="0.0079197733635432" />
      <inertia
        ixx="1.05619310913564E-06"
        ixy="-4.45977015135657E-10"
        ixz="3.65308232294126E-10"
        iyy="1.11379933821129E-06"
        iyz="1.76465578701409E-09"
        izz="4.23085363911227E-07" />
    </inertial>
    <visual>
      <origin
        xyz="0 0 0"
        rpy="0 0 0" />
      <geometry>
        <mesh
          filename="package://rucobot/meshes/medial_falanga_miz_r.STL" />
      </geometry>
      <material
        name="">
        <color
          rgba="0.792156862745098 0.819607843137255 0.933333333333333 1" />
      </material>
    </visual>
    <collision>
      <origin
        xyz="0 0 0"
        rpy="0 0 0" />
      <geometry>
        <mesh
          filename="package://rucobot/meshes/medial_falanga_miz_r.STL" />
      </geometry>
    </collision>
  </link>
  <joint
    name="j_medial_falanga_miz_r"
    type="continuous">
    <origin
      xyz="0.000330185890498214 -0.00406886435696347 -0.0458185041235781"
      rpy="0.0243067503049176 -1.11022302462516E-16 -6.66133814775094E-16" />
    <parent
      link="proximal_falang_miz_r" />
    <child
      link="medial_falanga_miz_r" />
    <axis
      xyz="1 0 0" />
  </joint>
  <link
    name="distal_falanga_miz_r">
    <inertial>
      <origin
        xyz="0.00149473888476248 0.000417275985905852 -0.0118731931278153"
        rpy="0 0 0" />
      <mass
        value="0.00792541838669141" />
      <inertia
        ixx="8.03956989890441E-07"
        ixy="7.68326491396889E-10"
        ixz="-4.55852002976494E-10"
        iyy="8.45142989054057E-07"
        iyz="2.03828170726256E-08"
        izz="3.60349172136296E-07" />
    </inertial>
    <visual>
      <origin
        xyz="0 0 0"
        rpy="0 0 0" />
      <geometry>
        <mesh
          filename="package://rucobot/meshes/distal_falanga_miz_r.STL" />
      </geometry>
      <material
        name="">
        <color
          rgba="0.792156862745098 0.819607843137255 0.933333333333333 1" />
      </material>
    </visual>
    <collision>
      <origin
        xyz="0 0 0"
        rpy="0 0 0" />
      <geometry>
        <mesh
          filename="package://rucobot/meshes/distal_falanga_miz_r.STL" />
      </geometry>
    </collision>
  </link>
  <joint
    name="j_distal_falanga_miz_r"
    type="continuous">
    <origin
      xyz="0 0.0137238057516697 -0.0258038888861933"
      rpy="0.258336030853921 6.93889390390723E-17 6.66133814775094E-16" />
    <parent
      link="medial_falanga_miz_r" />
    <child
      link="distal_falanga_miz_r" />
    <axis
      xyz="1 0 0" />
  </joint>
  <link
    name="sharnir_plecha_l">
    <inertial>
      <origin
        xyz="-5.55111512312578E-17 -0.000417919871589012 0.0466532917612667"
        rpy="0 0 0" />
      <mass
        value="0.483647848803235" />
      <inertia
        ixx="0.000689027325543667"
        ixy="2.84603070277445E-19"
        ixz="-2.02610280983229E-18"
        iyy="0.00196973024679346"
        iyz="5.56154264020346E-05"
        izz="0.00183169819086113" />
    </inertial>
    <visual>
      <origin
        xyz="0 0 0"
        rpy="0 0 0" />
      <geometry>
        <mesh
          filename="package://rucobot/meshes/sharnir_plecha_l.STL" />
      </geometry>
      <material
        name="">
        <color
          rgba="1 1 1 1" />
      </material>
    </visual>
    <collision>
      <origin
        xyz="0 0 0"
        rpy="0 0 0" />
      <geometry>
        <mesh
          filename="package://rucobot/meshes/sharnir_plecha_l.STL" />
      </geometry>
    </collision>
  </link>
  <joint
    name="j_sharnir_plecha_l"
    type="continuous">
    <origin
      xyz="0.152389409420877 0.390000000000005 0"
      rpy="1.57079632679489 1.39415035842739 1.57079632679489" />
    <parent
      link="Tors" />
    <child
      link="sharnir_plecha_l" />
    <axis
      xyz="0 0 1" />
  </joint>
  <link
    name="plecho_l">
    <inertial>
      <origin
        xyz="3.12713754890837E-08 -0.0251544593115959 -1.26876072981119E-08"
        rpy="0 0 0" />
      <mass
        value="2.34279529413064" />
      <inertia
        ixx="0.00788166003864894"
        ixy="1.38829821447659E-09"
        ixz="1.10322556970931E-09"
        iyy="0.00430171994078727"
        iyz="4.25673822194517E-09"
        izz="0.00692854700165599" />
    </inertial>
    <visual>
      <origin
        xyz="0 0 0"
        rpy="0 0 0" />
      <geometry>
        <mesh
          filename="package://rucobot/meshes/plecho_l.STL" />
      </geometry>
      <material
        name="">
        <color
          rgba="1 1 1 1" />
      </material>
    </visual>
    <collision>
      <origin
        xyz="0 0 0"
        rpy="0 0 0" />
      <geometry>
        <mesh
          filename="package://rucobot/meshes/plecho_l.STL" />
      </geometry>
    </collision>
  </link>
  <joint
    name="j_plecho_l"
    type="continuous">
    <origin
      xyz="0 -0.0079999999999999 0.0936105905791237"
      rpy="-1.5707963267949 -1.29112786207725 1.5707963267949" />
    <parent
      link="sharnir_plecha_l" />
    <child
      link="plecho_l" />
    <axis
      xyz="0 0 1" />
  </joint>
  <link
    name="lokot_l">
    <inertial>
      <origin
        xyz="1.16413660572467E-07 -0.0978377204551391 -9.69470430600694E-08"
        rpy="0 0 0" />
      <mass
        value="2.01481802912603" />
      <inertia
        ixx="0.00923322727364927"
        ixy="1.14768455442623E-08"
        ixz="1.29485073866462E-08"
        iyy="0.00229149686856388"
        iyz="2.76582576248234E-08"
        izz="0.0091364535158433" />
    </inertial>
    <visual>
      <origin
        xyz="0 0 0"
        rpy="0 0 0" />
      <geometry>
        <mesh
          filename="package://rucobot/meshes/lokot_l.STL" />
      </geometry>
      <material
        name="">
        <color
          rgba="1 1 1 1" />
      </material>
    </visual>
    <collision>
      <origin
        xyz="0 0 0"
        rpy="0 0 0" />
      <geometry>
        <mesh
          filename="package://rucobot/meshes/lokot_l.STL" />
      </geometry>
    </collision>
  </link>
  <joint
    name="j_lokot_l"
    type="continuous">
    <origin
      xyz="0 -0.140951811866513 0"
      rpy="0 -1.44799988602335 2.26598202507204E-16" />
    <parent
      link="plecho_l" />
    <child
      link="lokot_l" />
    <axis
      xyz="0 1 0" />
  </joint>
  <link
    name="sharnir_loktya_l">
    <inertial>
      <origin
        xyz="0.00120000000000009 0.00752035460033462 -0.0437637690424814"
        rpy="0 0 0" />
      <mass
        value="0.413649568915566" />
      <inertia
        ixx="0.00060993563382767"
        ixy="1.81095644122969E-18"
        ixz="-2.23616698075135E-19"
        iyy="0.0012155913352192"
        iyz="5.49949777303546E-05"
        izz="0.00106159012481743" />
    </inertial>
    <visual>
      <origin
        xyz="0 0 0"
        rpy="0 0 0" />
      <geometry>
        <mesh
          filename="package://rucobot/meshes/sharnir_loktya_l.STL" />
      </geometry>
      <material
        name="">
        <color
          rgba="1 1 1 1" />
      </material>
    </visual>
    <collision>
      <origin
        xyz="0 0 0"
        rpy="0 0 0" />
      <geometry>
        <mesh
          filename="package://rucobot/meshes/sharnir_loktya_l.STL" />
      </geometry>
    </collision>
  </link>
  <joint
    name="j_sharnir_loktya_l"
    type="continuous">
    <origin
      xyz="0 -0.161048188133487 0"
      rpy="1.61381909003651 1.57079631189374 -2.09329438379502" />
    <parent
      link="lokot_l" />
    <child
      link="sharnir_loktya_l" />
    <axis
      xyz="1 0 0" />
  </joint>
  <link
    name="predplechie_l">
    <inertial>
      <origin
        xyz="-1.73783355866819E-06 -3.8371408273008E-08 0.0731824158750626"
        rpy="0 0 0" />
      <mass
        value="1.44692799192518" />
      <inertia
        ixx="0.00554237315737386"
        ixy="2.51687730888888E-09"
        ixz="3.43710296420063E-07"
        iyy="0.00555465380712484"
        iyz="-6.69030071598874E-09"
        izz="0.00121510015418095" />
    </inertial>
    <visual>
      <origin
        xyz="0 0 0"
        rpy="0 0 0" />
      <geometry>
        <mesh
          filename="package://rucobot/meshes/predplechie_l.STL" />
      </geometry>
      <material
        name="">
        <color
          rgba="1 1 1 1" />
      </material>
    </visual>
    <collision>
      <origin
        xyz="0 0 0"
        rpy="0 0 0" />
      <geometry>
        <mesh
          filename="package://rucobot/meshes/predplechie_l.STL" />
      </geometry>
    </collision>
  </link>
  <joint
    name="j_predplechie_l"
    type="continuous">
    <origin
      xyz="0.00120000000000009 0.00800000000000012 -0.0954985987662796"
      rpy="3.14159265358979 5.55111512312578E-17 0.330130007135906" />
    <parent
      link="sharnir_loktya_l" />
    <child
      link="predplechie_l" />
    <axis
      xyz="0 0 1" />
  </joint>
  <link
    name="zapastie_l">
    <inertial>
      <origin
        xyz="-5.83575854307128E-10 -0.00589608124374763 -6.12892125939624E-10"
        rpy="0 0 0" />
      <mass
        value="0.0217508253802028" />
      <inertia
        ixx="4.06194785479799E-06"
        ixy="-1.32382247389684E-13"
        ixz="2.77491299847444E-13"
        iyy="3.36484852396572E-06"
        iyz="-3.76039361079172E-14"
        izz="2.22565575230997E-06" />
    </inertial>
    <visual>
      <origin
        xyz="0 0 0"
        rpy="0 0 0" />
      <geometry>
        <mesh
          filename="package://rucobot/meshes/zapastie_l.STL" />
      </geometry>
      <material
        name="">
        <color
          rgba="1 1 1 1" />
      </material>
    </visual>
    <collision>
      <origin
        xyz="0 0 0"
        rpy="0 0 0" />
      <geometry>
        <mesh
          filename="package://rucobot/meshes/zapastie_l.STL" />
      </geometry>
    </collision>
  </link>
  <joint
    name="j_zapastie_l"
    type="continuous">
    <origin
      xyz="0 0 0.19450140123372"
      rpy="-1.57079632679489 -0.197380460017493 1.5707963267949" />
    <parent
      link="predplechie_l" />
    <child
      link="zapastie_l" />
    <axis
      xyz="0 0 -1" />
  </joint>
  <link
    name="ladon_l">
    <inertial>
      <origin
        xyz="0.0443630089880126 0.00488751652788033 -0.0600557871612156"
        rpy="0 0 0" />
      <mass
        value="2.16213302107498" />
      <inertia
        ixx="0.0017822400144451"
        ixy="3.35902708000434E-09"
        ixz="-8.1214384969712E-09"
        iyy="0.00728079827500638"
        iyz="0.000121277233104469"
        izz="0.00607112321869769" />
    </inertial>
    <visual>
      <origin
        xyz="0 0 0"
        rpy="0 0 0" />
      <geometry>
        <mesh
          filename="package://rucobot/meshes/ladon_l.STL" />
      </geometry>
      <material
        name="">
        <color
          rgba="0.792156862745098 0.819607843137255 0.933333333333333 1" />
      </material>
    </visual>
    <collision>
      <origin
        xyz="0 0 0"
        rpy="0 0 0" />
      <geometry>
        <mesh
          filename="package://rucobot/meshes/ladon_l.STL" />
      </geometry>
    </collision>
  </link>
  <joint
    name="j_ladon_l"
    type="continuous">
    <origin
      xyz="0 0 0"
      rpy="3.14159265358979 -1.56665851302964 1.5707963267949" />
    <parent
      link="zapastie_l" />
    <child
      link="ladon_l" />
    <axis
      xyz="0 1 0" />
  </joint>
  <link
    name="bolshoj_osnova_l">
    <inertial>
      <origin
        xyz="1.61109600660403E-09 -0.00335807254700327 -0.0131887628307374"
        rpy="0 0 0" />
      <mass
        value="0.00474130011815392" />
      <inertia
        ixx="3.37852128384203E-07"
        ixy="-3.4573179602801E-14"
        ixz="-3.93265996644487E-14"
        iyy="3.15892906322204E-07"
        iyz="-2.38606198520146E-10"
        izz="1.60033893814992E-07" />
    </inertial>
    <visual>
      <origin
        xyz="0 0 0"
        rpy="0 0 0" />
      <geometry>
        <mesh
          filename="package://rucobot/meshes/bolshoj_osnova_l.STL" />
      </geometry>
      <material
        name="">
        <color
          rgba="1 1 1 1" />
      </material>
    </visual>
    <collision>
      <origin
        xyz="0 0 0"
        rpy="0 0 0" />
      <geometry>
        <mesh
          filename="package://rucobot/meshes/bolshoj_osnova_l.STL" />
      </geometry>
    </collision>
  </link>
  <joint
    name="j_bolshoj_osnova_l"
    type="continuous">
    <origin
      xyz="0.0286062957588674 -0.0191182634575131 -0.0340916557414431"
      rpy="-0.760754668333787 -0.47903314835867 -2.02173849530472" />
    <parent
      link="ladon_l" />
    <child
      link="bolshoj_osnova_l" />
    <axis
      xyz="0 0 -1" />
  </joint>
  <link
    name="proximal_falang_bolshoj_l">
    <inertial>
      <origin
        xyz="0.0491416395045949 0.0112875493880561 -0.0301219393565599"
        rpy="0 0 0" />
      <mass
        value="0.0127054141105419" />
      <inertia
        ixx="2.86639553657946E-06"
        ixy="6.98126486631259E-10"
        ixz="2.22992047749007E-09"
        iyy="3.05918166978879E-06"
        iyz="-1.83345073024409E-08"
        izz="9.4606361163888E-07" />
    </inertial>
    <visual>
      <origin
        xyz="0 0 0"
        rpy="0 0 0" />
      <geometry>
        <mesh
          filename="package://rucobot/meshes/proximal_falang_bolshoj_l.STL" />
      </geometry>
      <material
        name="">
        <color
          rgba="0.792156862745098 0.819607843137255 0.933333333333333 1" />
      </material>
    </visual>
    <collision>
      <origin
        xyz="0 0 0"
        rpy="0 0 0" />
      <geometry>
        <mesh
          filename="package://rucobot/meshes/proximal_falang_bolshoj_l.STL" />
      </geometry>
    </collision>
  </link>
  <joint
    name="j_proximal_falang_bolshoj_l"
    type="continuous">
    <origin
      xyz="0.0491468857628961 -0.013916361167838 -0.00322975923572941"
      rpy="-1.88498781502249 -7.21644966006352E-16 -3.14159265358979" />
    <parent
      link="bolshoj_osnova_l" />
    <child
      link="proximal_falang_bolshoj_l" />
    <axis
      xyz="1 0 0" />
  </joint>
  <link
    name="medial_falanga_bolshoj_l">
    <inertial>
      <origin
        xyz="0.0260751353746376 0.000130044469385804 -0.0119984512619372"
        rpy="0 0 0" />
      <mass
        value="0.0079197719184545" />
      <inertia
        ixx="1.05619353496797E-06"
        ixy="-4.46256697577165E-10"
        ixz="3.6524613616356E-10"
        iyy="1.11379850431128E-06"
        iyz="1.764488280692E-09"
        izz="4.23085016558112E-07" />
    </inertial>
    <visual>
      <origin
        xyz="0 0 0"
        rpy="0 0 0" />
      <geometry>
        <mesh
          filename="package://rucobot/meshes/medial_falanga_bolshoj_l.STL" />
      </geometry>
      <material
        name="">
        <color
          rgba="0.792156862745098 0.819607843137255 0.933333333333333 1" />
      </material>
    </visual>
    <collision>
      <origin
        xyz="0 0 0"
        rpy="0 0 0" />
      <geometry>
        <mesh
          filename="package://rucobot/meshes/medial_falanga_bolshoj_l.STL" />
      </geometry>
    </collision>
  </link>
  <joint
    name="j_medial_falanga_bolshoj_l"
    type="continuous">
    <origin
      xyz="0.0230783039867778 0.0113397541878712 -0.052215815564381"
      rpy="0.726772177041745 1.58206781009085E-15 -1.88737914186277E-15" />
    <parent
      link="proximal_falang_bolshoj_l" />
    <child
      link="medial_falanga_bolshoj_l" />
    <axis
      xyz="1 0 0" />
  </joint>
  <link
    name="distal_falang_bolshoy_l">
    <inertial>
      <origin
        xyz="0.017988632866714 0.000417285260700173 -0.0118731882123958"
        rpy="0 0 0" />
      <mass
        value="0.0079254235962375" />
      <inertia
        ixx="8.03956872494815E-07"
        ixy="7.68434236506511E-10"
        ixz="-4.55985331781098E-10"
        iyy="8.45142243817211E-07"
        iyz="2.03849708329773E-08"
        izz="3.60349435531677E-07" />
    </inertial>
    <visual>
      <origin
        xyz="0 0 0"
        rpy="0 0 0" />
      <geometry>
        <mesh
          filename="package://rucobot/meshes/distal_falang_bolshoy_l.STL" />
      </geometry>
      <material
        name="">
        <color
          rgba="0.792156862745098 0.819607843137255 0.933333333333333 1" />
      </material>
    </visual>
    <collision>
      <origin
        xyz="0 0 0"
        rpy="0 0 0" />
      <geometry>
        <mesh
          filename="package://rucobot/meshes/distal_falang_bolshoy_l.STL" />
      </geometry>
    </collision>
  </link>
  <joint
    name="j_distal_falang_bolshoy_l"
    type="continuous">
    <origin
      xyz="0.00811916417762051 0 -0.028"
      rpy="1.4296124473884 1.16573417585641E-15 3.02535774210355E-15" />
    <parent
      link="medial_falanga_bolshoj_l" />
    <child
      link="distal_falang_bolshoy_l" />
    <axis
      xyz="1 0 0" />
  </joint>
  <link
    name="sharnir_palec_ukaz_l">
    <inertial>
      <origin
        xyz="-0.000193152490879867 0.0028827523153877 0.000976444726679987"
        rpy="0 0 0" />
      <mass
        value="0.00247996470734577" />
      <inertia
        ixx="1.41865516092847E-07"
        ixy="-9.26897787292178E-10"
        ixz="3.83362224786016E-10"
        iyy="9.22616396062871E-08"
        iyz="2.59316175616658E-09"
        izz="1.17684693351073E-07" />
    </inertial>
    <visual>
      <origin
        xyz="0 0 0"
        rpy="0 0 0" />
      <geometry>
        <mesh
          filename="package://rucobot/meshes/sharnir_palec_ukaz_l.STL" />
      </geometry>
      <material
        name="">
        <color
          rgba="0.792156862745098 0.819607843137255 0.933333333333333 1" />
      </material>
    </visual>
    <collision>
      <origin
        xyz="0 0 0"
        rpy="0 0 0" />
      <geometry>
        <mesh
          filename="package://rucobot/meshes/sharnir_palec_ukaz_l.STL" />
      </geometry>
    </collision>
  </link>
  <joint
    name="j_sharnir_palec_ukaz_l"
    type="continuous">
    <origin
      xyz="0.0343629827592736 0 -0.108499957196304"
      rpy="-3.28829517466932E-15 -0.332097661851732 1.6147878089894E-15" />
    <parent
      link="ladon_l" />
    <child
      link="sharnir_palec_ukaz_l" />
    <axis
      xyz="0 1 0" />
  </joint>
  <link
    name="proximal_falang_ukaz_l">
    <inertial>
      <origin
        xyz="-5.20829184486038E-06 -0.000932800419152696 -0.0221103816501311"
        rpy="0 0 0" />
      <mass
        value="0.0127053735702975" />
      <inertia
        ixx="2.86640015420788E-06"
        ixy="6.94855367646972E-10"
        ixz="2.22606417933835E-09"
        iyy="3.0591807233627E-06"
        iyz="-1.83389309099983E-08"
        izz="9.46064831513841E-07" />
    </inertial>
    <visual>
      <origin
        xyz="0 0 0"
        rpy="0 0 0" />
      <geometry>
        <mesh
          filename="package://rucobot/meshes/proximal_falang_ukaz_l.STL" />
      </geometry>
      <material
        name="">
        <color
          rgba="0.792156862745098 0.819607843137255 0.933333333333333 1" />
      </material>
    </visual>
    <collision>
      <origin
        xyz="0 0 0"
        rpy="0 0 0" />
      <geometry>
        <mesh
          filename="package://rucobot/meshes/proximal_falang_ukaz_l.STL" />
      </geometry>
    </collision>
  </link>
  <joint
    name="j_proximal_falang_ukaz_l"
    type="continuous">
    <origin
      xyz="0 0 0"
      rpy="1.11484688989119 -7.49400541621981E-16 -3.14159265358979" />
    <parent
      link="sharnir_palec_ukaz_l" />
    <child
      link="proximal_falang_ukaz_l" />
    <axis
      xyz="1 0 0" />
  </joint>
  <link
    name="medial_falanga_ukaz_l">
    <inertial>
      <origin
        xyz="6.55491822970644E-06 -0.0188559430205998 0.000817533355310984"
        rpy="0 0 0" />
      <mass
        value="0.00791977353096028" />
      <inertia
        ixx="1.05619335781221E-06"
        ixy="-4.46055356463278E-10"
        ixz="3.65296151938779E-10"
        iyy="1.11379913458607E-06"
        iyz="1.76454934700515E-09"
        izz="4.23085334076314E-07" />
    </inertial>
    <visual>
      <origin
        xyz="0 0 0"
        rpy="0 0 0" />
      <geometry>
        <mesh
          filename="package://rucobot/meshes/medial_falanga_ukaz_l.STL" />
      </geometry>
      <material
        name="">
        <color
          rgba="0.792156862745098 0.819607843137255 0.933333333333333 1" />
      </material>
    </visual>
    <collision>
      <origin
        xyz="0 0 0"
        rpy="0 0 0" />
      <geometry>
        <mesh
          filename="package://rucobot/meshes/medial_falanga_ukaz_l.STL" />
      </geometry>
    </collision>
  </link>
  <joint
    name="j_medial_falanga_ukaz_l"
    type="continuous">
    <origin
      xyz="0 0.0220157478887349 -0.0448921690821424"
      rpy="0.563732607541172 -1.21777588013572E-15 1.2490009027033E-15" />
    <parent
      link="proximal_falang_ukaz_l" />
    <child
      link="medial_falanga_ukaz_l" />
    <axis
      xyz="1 0 0" />
  </joint>
  <link
    name="distal_falanga_ukaz_l">
    <inertial>
      <origin
        xyz="3.92154856411198E-05 0.000417280955288313 -0.0118731910933805"
        rpy="0 0 0" />
      <mass
        value="0.00792541925435562" />
      <inertia
        ixx="8.03956890961279E-07"
        ixy="7.68321516321629E-10"
        ixz="-4.5579356065472E-10"
        iyy="8.45142901709851E-07"
        iyz="2.03836949910472E-08"
        izz="3.60349031111827E-07" />
    </inertial>
    <visual>
      <origin
        xyz="0 0 0"
        rpy="0 0 0" />
      <geometry>
        <mesh
          filename="package://rucobot/meshes/distal_falanga_ukaz_l.STL" />
      </geometry>
      <material
        name="">
        <color
          rgba="0.792156862745098 0.819607843137255 0.933333333333333 1" />
      </material>
    </visual>
    <collision>
      <origin
        xyz="0 0 0"
        rpy="0 0 0" />
      <geometry>
        <mesh
          filename="package://rucobot/meshes/distal_falanga_ukaz_l.STL" />
      </geometry>
    </collision>
  </link>
  <joint
    name="j_distal_falanga_ukaz_l"
    type="continuous">
    <origin
      xyz="0 -0.0189859889132917 -0.0151840143881235"
      rpy="-0.11049370520446 2.63677968348475E-16 -6.93889390390723E-17" />
    <parent
      link="medial_falanga_ukaz_l" />
    <child
      link="distal_falanga_ukaz_l" />
    <axis
      xyz="1 0 0" />
  </joint>
  <link
    name="sharnir_palec_sred_l">
    <inertial>
      <origin
        xyz="-0.00019315264391101 0.00288275232220514 0.000976444925202241"
        rpy="0 0 0" />
      <mass
        value="0.0024799645866329" />
      <inertia
        ixx="1.41865512237387E-07"
        ixy="-9.26899978783815E-10"
        ixz="3.83359628619355E-10"
        iyy="9.22616398315029E-08"
        iyz="2.59316164784045E-09"
        izz="1.17684683913389E-07" />
    </inertial>
    <visual>
      <origin
        xyz="0 0 0"
        rpy="0 0 0" />
      <geometry>
        <mesh
          filename="package://rucobot/meshes/sharnir_palec_sred_l.STL" />
      </geometry>
      <material
        name="">
        <color
          rgba="0.792156862745098 0.819607843137255 0.933333333333333 1" />
      </material>
    </visual>
    <collision>
      <origin
        xyz="0 0 0"
        rpy="0 0 0" />
      <geometry>
        <mesh
          filename="package://rucobot/meshes/sharnir_palec_sred_l.STL" />
      </geometry>
    </collision>
  </link>
  <joint
    name="j_sharnir_palec_sred_l"
    type="continuous">
    <origin
      xyz="0.0103629827592736 0 -0.108499957196304"
      rpy="-3.24852540828036E-15 -0.294546077137939 1.4647369028407E-15" />
    <parent
      link="ladon_l" />
    <child
      link="sharnir_palec_sred_l" />
    <axis
      xyz="0 1 0" />
  </joint>
  <link
    name="proximal_falang_sred_l">
    <inertial>
      <origin
        xyz="-5.19896908462991E-06 -0.000301615700045943 -0.02192176610875"
        rpy="0 0 0" />
      <mass
        value="0.012705351647472" />
      <inertia
        ixx="2.86638769136229E-06"
        ixy="6.93852163313867E-10"
        ixz="2.22419270264239E-09"
        iyy="3.05917301102273E-06"
        iyz="-1.83331095909247E-08"
        izz="9.46058851768309E-07" />
    </inertial>
    <visual>
      <origin
        xyz="0 0 0"
        rpy="0 0 0" />
      <geometry>
        <mesh
          filename="package://rucobot/meshes/proximal_falang_sred_l.STL" />
      </geometry>
      <material
        name="">
        <color
          rgba="0.792156862745098 0.819607843137255 0.933333333333333 1" />
      </material>
    </visual>
    <collision>
      <origin
        xyz="0 0 0"
        rpy="0 0 0" />
      <geometry>
        <mesh
          filename="package://rucobot/meshes/proximal_falang_sred_l.STL" />
      </geometry>
    </collision>
  </link>
  <joint
    name="j_proximal_falang_sred_l"
    type="continuous">
    <origin
      xyz="0 0 0"
      rpy="1.44576702971441 1.49880108324396E-15 -3.14159265358979" />
    <parent
      link="sharnir_palec_sred_l" />
    <child
      link="proximal_falang_sred_l" />
    <axis
      xyz="1 0 0" />
  </joint>
  <link
    name="medial_falanga_sred_l">
    <inertial>
      <origin
        xyz="6.55421300266301E-06 -0.00720218768868919 -0.00757327582143208"
        rpy="0 0 0" />
      <mass
        value="0.00791977571324533" />
      <inertia
        ixx="1.05619339611458E-06"
        ixy="-4.46029235436926E-10"
        ixz="3.65274782658476E-10"
        iyy="1.1137995756936E-06"
        iyz="1.76452058049392E-09"
        izz="4.23085633995589E-07" />
    </inertial>
    <visual>
      <origin
        xyz="0 0 0"
        rpy="0 0 0" />
      <geometry>
        <mesh
          filename="package://rucobot/meshes/medial_falanga_sred_l.STL" />
      </geometry>
      <material
        name="">
        <color
          rgba="0.792156862745098 0.819607843137255 0.933333333333333 1" />
      </material>
    </visual>
    <collision>
      <origin
        xyz="0 0 0"
        rpy="0 0 0" />
      <geometry>
        <mesh
          filename="package://rucobot/meshes/medial_falanga_sred_l.STL" />
      </geometry>
    </collision>
  </link>
  <joint
    name="j_medial_falanga_sred_l"
    type="continuous">
    <origin
      xyz="0 0.00623519009133176 -0.049609700709891"
      rpy="-0.168799089471799 -2.08166817117217E-16 -2.4008572907519E-15" />
    <parent
      link="proximal_falang_sred_l" />
    <child
      link="medial_falanga_sred_l" />
    <axis
      xyz="1 0 0" />
  </joint>
  <link
    name="distal_falanga_sred_l">
    <inertial>
      <origin
        xyz="3.92154984800164E-05 0.000417280307577456 -0.0118731914916414"
        rpy="0 0 0" />
      <mass
        value="0.00792541876182252" />
      <inertia
        ixx="8.03956899308065E-07"
        ixy="7.68317470456471E-10"
        ixz="-4.55789550751951E-10"
        iyy="8.45142971716973E-07"
        iyz="2.0383519096941E-08"
        izz="3.60349002769039E-07" />
    </inertial>
    <visual>
      <origin
        xyz="0 0 0"
        rpy="0 0 0" />
      <geometry>
        <mesh
          filename="package://rucobot/meshes/distal_falanga_sred_l.STL" />
      </geometry>
      <material
        name="">
        <color
          rgba="0.792156862745098 0.819607843137255 0.933333333333333 1" />
      </material>
    </visual>
    <collision>
      <origin
        xyz="0 0 0"
        rpy="0 0 0" />
      <geometry>
        <mesh
          filename="package://rucobot/meshes/distal_falanga_sred_l.STL" />
      </geometry>
    </collision>
  </link>
  <joint
    name="j_distal_falanga_sred_l"
    type="continuous">
    <origin
      xyz="0 -0.00733223282733369 -0.0235748222811509"
      rpy="0.352337356784202 -8.43075609324728E-16 3.60822483003176E-15" />
    <parent
      link="medial_falanga_sred_l" />
    <child
      link="distal_falanga_sred_l" />
    <axis
      xyz="1 0 0" />
  </joint>
  <link
    name="sharnir_palec_bezim_l">
    <inertial>
      <origin
        xyz="-0.000193153252624867 0.00288275214888389 0.000976445084956368"
        rpy="0 0 0" />
      <mass
        value="0.00247996421674552" />
      <inertia
        ixx="1.41865499188479E-07"
        ixy="-9.26906598066539E-10"
        ixz="3.83353475107097E-10"
        iyy="9.22616458646876E-08"
        iyz="2.59316013016759E-09"
        izz="1.17684658819667E-07" />
    </inertial>
    <visual>
      <origin
        xyz="0 0 0"
        rpy="0 0 0" />
      <geometry>
        <mesh
          filename="package://rucobot/meshes/sharnir_palec_bezim_l.STL" />
      </geometry>
      <material
        name="">
        <color
          rgba="0.792156862745098 0.819607843137255 0.933333333333333 1" />
      </material>
    </visual>
    <collision>
      <origin
        xyz="0 0 0"
        rpy="0 0 0" />
      <geometry>
        <mesh
          filename="package://rucobot/meshes/sharnir_palec_bezim_l.STL" />
      </geometry>
    </collision>
  </link>
  <joint
    name="j_sharnir_palec_bezim_l"
    type="continuous">
    <origin
      xyz="-0.0136370172407264 0 -0.104499957196304"
      rpy="-3.15848565820102E-15 -0.17792208122188 1.07162906260392E-15" />
    <parent
      link="ladon_l" />
    <child
      link="sharnir_palec_bezim_l" />
    <axis
      xyz="0 1 0" />
  </joint>
  <link
    name="proximal_falang_bezim_l">
    <inertial>
      <origin
        xyz="-5.20126007613753E-06 -0.000231192200727648 -0.0219141722335413"
        rpy="0 0 0" />
      <mass
        value="0.0127053660856527" />
      <inertia
        ixx="2.86638958627664E-06"
        ixy="6.93864423114979E-10"
        ixz="2.22459262514755E-09"
        iyy="3.05917459718118E-06"
        iyz="-1.83336509681036E-08"
        izz="9.46060799488356E-07" />
    </inertial>
    <visual>
      <origin
        xyz="0 0 0"
        rpy="0 0 0" />
      <geometry>
        <mesh
          filename="package://rucobot/meshes/proximal_falang_bezim_l.STL" />
      </geometry>
      <material
        name="">
        <color
          rgba="0.792156862745098 0.819607843137255 0.933333333333333 1" />
      </material>
    </visual>
    <collision>
      <origin
        xyz="0 0 0"
        rpy="0 0 0" />
      <geometry>
        <mesh
          filename="package://rucobot/meshes/proximal_falang_bezim_l.STL" />
      </geometry>
    </collision>
  </link>
  <joint
    name="j_proximal_falang_bezim_l"
    type="continuous">
    <origin
      xyz="0 0 0"
      rpy="1.48118139737993 3.12944115066216E-15 3.14159265358979" />
    <parent
      link="sharnir_palec_bezim_l" />
    <child
      link="proximal_falang_bezim_l" />
    <axis
      xyz="1 0 0" />
  </joint>
  <link
    name="medial_falanga_bezim_l">
    <inertial>
      <origin
        xyz="6.55387797865448E-06 -0.0040883271557885 -0.00588271547003388"
        rpy="0 0 0" />
      <mass
        value="0.0079197748552498" />
      <inertia
        ixx="1.05619346375083E-06"
        ixy="-4.46060819979246E-10"
        ixz="3.65257385324779E-10"
        iyy="1.11379927470029E-06"
        iyz="1.76449943631151E-09"
        izz="4.23085476503934E-07" />
    </inertial>
    <visual>
      <origin
        xyz="0 0 0"
        rpy="0 0 0" />
      <geometry>
        <mesh
          filename="package://rucobot/meshes/medial_falanga_bezim_l.STL" />
      </geometry>
      <material
        name="">
        <color
          rgba="0.792156862745098 0.819607843137255 0.933333333333333 1" />
      </material>
    </visual>
    <collision>
      <origin
        xyz="0 0 0"
        rpy="0 0 0" />
      <geometry>
        <mesh
          filename="package://rucobot/meshes/medial_falanga_bezim_l.STL" />
      </geometry>
    </collision>
  </link>
  <joint
    name="j_medial_falanga_bezim_l"
    type="continuous">
    <origin
      xyz="0 0.00447475152211757 -0.0497993634378524"
      rpy="0.0730953468556514 1.78676518025611E-16 8.08381139805192E-16" />
    <parent
      link="proximal_falang_bezim_l" />
    <child
      link="medial_falanga_bezim_l" />
    <axis
      xyz="1 0 0" />
  </joint>
  <link
    name="distal_falanga_bezim_l">
    <inertial>
      <origin
        xyz="3.92159931133507E-05 0.000417278851463115 -0.0118731923164631"
        rpy="0 0 0" />
      <mass
        value="0.00792541830844086" />
      <inertia
        ixx="8.03956936981391E-07"
        ixy="7.6833715815205E-10"
        ixz="-4.55771927606924E-10"
        iyy="8.45143114899438E-07"
        iyz="2.03832031954561E-08"
        izz="3.60349008995556E-07" />
    </inertial>
    <visual>
      <origin
        xyz="0 0 0"
        rpy="0 0 0" />
      <geometry>
        <mesh
          filename="package://rucobot/meshes/distal_falanga_bezim_l.STL" />
      </geometry>
      <material
        name="">
        <color
          rgba="0.792156862745098 0.819607843137255 0.933333333333333 1" />
      </material>
    </visual>
    <collision>
      <origin
        xyz="0 0 0"
        rpy="0 0 0" />
      <geometry>
        <mesh
          filename="package://rucobot/meshes/distal_falanga_bezim_l.STL" />
      </geometry>
    </collision>
  </link>
  <joint
    name="j_distal_falanga_bezim_l"
    type="continuous">
    <origin
      xyz="0 -0.00421837181291146 -0.0218842624717602"
      rpy="0.0254511163823667 5.60315682740509E-15 -1.00613961606655E-16" />
    <parent
      link="medial_falanga_bezim_l" />
    <child
      link="distal_falanga_bezim_l" />
    <axis
      xyz="1 0 0" />
  </joint>
  <link
    name="sharnir_palec_miz_l">
    <inertial>
      <origin
        xyz="-0.000193153529855439 0.0028827515356693 0.000976444472905763"
        rpy="0 0 0" />
      <mass
        value="0.0024799641227465" />
      <inertia
        ixx="1.41865494775344E-07"
        ixy="-9.26908825875705E-10"
        ixz="3.83351044307603E-10"
        iyy="9.22616545714045E-08"
        iyz="2.59315975534212E-09"
        izz="1.17684660271307E-07" />
    </inertial>
    <visual>
      <origin
        xyz="0 0 0"
        rpy="0 0 0" />
      <geometry>
        <mesh
          filename="package://rucobot/meshes/sharnir_palec_miz_l.STL" />
      </geometry>
      <material
        name="">
        <color
          rgba="0.792156862745098 0.819607843137255 0.933333333333333 1" />
      </material>
    </visual>
    <collision>
      <origin
        xyz="0 0 0"
        rpy="0 0 0" />
      <geometry>
        <mesh
          filename="package://rucobot/meshes/sharnir_palec_miz_l.STL" />
      </geometry>
    </collision>
  </link>
  <joint
    name="j_sharnir_palec_miz_l"
    type="continuous">
    <origin
      xyz="-0.0376370172407265 0 -0.0984999571963043"
      rpy="-3.13426648924073E-15 -0.128002864932594 9.58469886218704E-16" />
    <parent
      link="ladon_l" />
    <child
      link="sharnir_palec_miz_l" />
    <axis
      xyz="0 1 0" />
  </joint>
  <link
    name="proximal_falang_miz_l">
    <inertial>
      <origin
        xyz="-5.21017766191845E-06 0.000121080198921486 -0.0219136529843224"
        rpy="0 0 0" />
      <mass
        value="0.0127054066026706" />
      <inertia
        ixx="2.86639328245821E-06"
        ixy="6.92714176883892E-10"
        ixz="2.22541648677267E-09"
        iyy="3.05917897262995E-06"
        iyz="-1.83328839008019E-08"
        izz="9.46064392803008E-07" />
    </inertial>
    <visual>
      <origin
        xyz="0 0 0"
        rpy="0 0 0" />
      <geometry>
        <mesh
          filename="package://rucobot/meshes/proximal_falang_miz_l.STL" />
      </geometry>
      <material
        name="">
        <color
          rgba="0.792156862745098 0.819607843137255 0.933333333333333 1" />
      </material>
    </visual>
    <collision>
      <origin
        xyz="0 0 0"
        rpy="0 0 0" />
      <geometry>
        <mesh
          filename="package://rucobot/meshes/proximal_falang_miz_l.STL" />
      </geometry>
    </collision>
  </link>
  <joint
    name="j_proximal_falang_miz_l"
    type="continuous">
    <origin
      xyz="0 0 0"
      rpy="1.65754717564615 2.40779618465581E-15 -3.14159265358979" />
    <parent
      link="sharnir_palec_miz_l" />
    <child
      link="proximal_falang_miz_l" />
    <axis
      xyz="1 0 0" />
  </joint>
  <link
    name="medial_falanga_miz_l">
    <inertial>
      <origin
        xyz="6.55394070286919E-06 0.00455425902413534 -0.00613189197253794"
        rpy="0 0 0" />
      <mass
        value="0.00791977449147094" />
      <inertia
        ixx="1.05619349793446E-06"
        ixy="-4.46071086193053E-10"
        ixz="3.65259713354964E-10"
        iyy="1.11379916519959E-06"
        iyz="1.7644853436558E-09"
        izz="4.23085418363449E-07" />
    </inertial>
    <visual>
      <origin
        xyz="0 0 0"
        rpy="0 0 0" />
      <geometry>
        <mesh
          filename="package://rucobot/meshes/medial_falanga_miz_l.STL" />
      </geometry>
      <material
        name="">
        <color
          rgba="0.792156862745098 0.819607843137255 0.933333333333333 1" />
      </material>
    </visual>
    <collision>
      <origin
        xyz="0 0 0"
        rpy="0 0 0" />
      <geometry>
        <mesh
          filename="package://rucobot/meshes/medial_falanga_miz_l.STL" />
      </geometry>
    </collision>
  </link>
  <joint
    name="j_medial_falanga_miz_l"
    type="continuous">
    <origin
      xyz="0 -0.00433210397512132 -0.0498119752183021"
      rpy="-0.0139100620699392 9.43689570931383E-16 1.98452365651747E-15" />
    <parent
      link="proximal_falang_miz_l" />
    <child
      link="medial_falanga_miz_l" />
    <axis
      xyz="1 0 0" />
  </joint>
  <link
    name="distal_falanga_miz_l">
    <inertial>
      <origin
        xyz="3.92154746994278E-05 0.000417278921219788 -0.0118731922589785"
        rpy="0 0 0" />
      <mass
        value="0.00792541703381468" />
      <inertia
        ixx="8.03956886645921E-07"
        ixy="7.68301872152557E-10"
        ixz="-4.55796432331895E-10"
        iyy="8.45143157553504E-07"
        iyz="2.03830525171032E-08"
        izz="3.60348889369711E-07" />
    </inertial>
    <visual>
      <origin
        xyz="0 0 0"
        rpy="0 0 0" />
      <geometry>
        <mesh
          filename="package://rucobot/meshes/distal_falanga_miz_l.STL" />
      </geometry>
      <material
        name="">
        <color
          rgba="0.792156862745098 0.819607843137255 0.933333333333333 1" />
      </material>
    </visual>
    <collision>
      <origin
        xyz="0 0 0"
        rpy="0 0 0" />
      <geometry>
        <mesh
          filename="package://rucobot/meshes/distal_falanga_miz_l.STL" />
      </geometry>
    </collision>
  </link>
  <joint
    name="j_distal_falanga_miz_l"
    type="continuous">
    <origin
      xyz="0 0.00442421455290229 -0.0221334391077272"
      rpy="0.0344454016102748 8.04911692853238E-16 -1.86656246015104E-15" />
    <parent
      link="medial_falanga_miz_l" />
    <child
      link="distal_falanga_miz_l" />
    <axis
      xyz="1 0 0" />
  </joint>
  <link
    name="sheya">
    <inertial>
      <origin
        xyz="-1.38777878078145E-17 0.0357066801932042 5.55111512312578E-17"
        rpy="0 0 0" />
      <mass
        value="0.218347766858865" />
      <inertia
        ixx="0.000196825313899626"
        ixy="3.34578014165449E-20"
        ixz="-2.03287907341032E-20"
        iyy="6.60281296822225E-05"
        iyz="-2.3039296165317E-19"
        izz="0.000186054357293215" />
    </inertial>
    <visual>
      <origin
        xyz="0 0 0"
        rpy="0 0 0" />
      <geometry>
        <mesh
          filename="package://rucobot/meshes/sheya.STL" />
      </geometry>
      <material
        name="">
        <color
          rgba="1 1 1 1" />
      </material>
    </visual>
    <collision>
      <origin
        xyz="0 0 0"
        rpy="0 0 0" />
      <geometry>
        <mesh
          filename="package://rucobot/meshes/sheya.STL" />
      </geometry>
    </collision>
  </link>
  <joint
    name="j_sheja"
    type="continuous">
    <origin
      xyz="0 0.462945617536895 0"
      rpy="-3.38231325827026E-15 -0.174973769705534 7.1874156738243E-16" />
    <parent
      link="Tors" />
    <child
      link="sheya" />
    <axis
      xyz="0 1 0" />
  </joint>
  <link
    name="golova">
    <inertial>
      <origin
        xyz="-5.66003578992974E-05 0.0751250583774465 0.02507701782034"
        rpy="0 0 0" />
      <mass
        value="34.4110690927022" />
      <inertia
        ixx="0.161643856121155"
        ixy="-3.54234548112858E-05"
        ixz="0.000114755539493507"
        iyy="0.19009054518769"
        iyz="0.0205623457593875"
        izz="0.146685003424678" />
    </inertial>
    <visual>
      <origin
        xyz="0 0 0"
        rpy="0 0 0" />
      <geometry>
        <mesh
          filename="package://rucobot/meshes/golova.STL" />
      </geometry>
      <material
        name="">
        <color
          rgba="0.792156862745098 0.819607843137255 0.933333333333333 1" />
      </material>
    </visual>
    <collision>
      <origin
        xyz="0 0 0"
        rpy="0 0 0" />
      <geometry>
        <mesh
          filename="package://rucobot/meshes/golova.STL" />
      </geometry>
    </collision>
  </link>
  <joint
    name="j_golova"
    type="continuous">
    <origin
      xyz="0 0.0670543824631131 0"
      rpy="0.263818171846765 -7.7715611723761E-16 -2.77555756156289E-17" />
    <parent
      link="sheya" />
    <child
      link="golova" />
    <axis
      xyz="1 0 0" />
  </joint>
  <link
    name="shassi_r">
    <inertial>
      <origin
        xyz="-1.72516190222183E-09 -2.98748831922824E-09 0.0391397938943969"
        rpy="0 0 0" />
      <mass
        value="5.40678275175521" />
      <inertia
        ixx="0.0213815517772206"
        ixy="1.53213127919178E-09"
        ixz="9.56122942901176E-08"
        iyy="0.165947984257785"
        iyz="1.52684161048681E-07"
        izz="0.164984132423958" />
    </inertial>
    <visual>
      <origin
        xyz="0 0 0"
        rpy="0 0 0" />
      <geometry>
        <mesh
          filename="package://rucobot/meshes/shassi_r.STL" />
      </geometry>
      <material
        name="">
        <color
          rgba="1 1 1 1" />
      </material>
    </visual>
    <collision>
      <origin
        xyz="0 0 0"
        rpy="0 0 0" />
      <geometry>
        <mesh
          filename="package://rucobot/meshes/shassi_r.STL" />
      </geometry>
    </collision>
  </link>
  <joint
    name="j_shassi_r"
    type="continuous">
    <origin
      xyz="-0.190978691828847 0.0257000413894612 -0.0262230889938952"
      rpy="-1.48994964702924 -0.00319317350040304 1.61018644085026" />
    <parent
      link="base_link" />
    <child
      link="shassi_r" />
    <axis
      xyz="0 0 -1" />
  </joint>
  <link
    name="shassi_l">
    <inertial>
      <origin
        xyz="-1.3000405314767E-08 -2.22754016621085E-09 0.0393520017268161"
        rpy="0 0 0" />
      <mass
        value="5.40678275176403" />
      <inertia
        ixx="0.0213815504847618"
        ixy="-7.83263035776945E-09"
        ixz="1.59062855534806E-07"
        iyy="0.165947996310804"
        iyz="-5.72835684548686E-09"
        izz="0.164984145747224" />
    </inertial>
    <visual>
      <origin
        xyz="0 0 0"
        rpy="0 0 0" />
      <geometry>
        <mesh
          filename="package://rucobot/meshes/shassi_l.STL" />
      </geometry>
      <material
        name="">
        <color
          rgba="1 1 1 1" />
      </material>
    </visual>
    <collision>
      <origin
        xyz="0 0 0"
        rpy="0 0 0" />
      <geometry>
        <mesh
          filename="package://rucobot/meshes/shassi_l.STL" />
      </geometry>
    </collision>
  </link>
  <joint
    name="j_shassi_l"
    type="continuous">
    <origin
      xyz="0.181439187491373 0.0404737188099368 -0.0564211869800962"
      rpy="-1.65164300656056 0.00319317350040292 -1.53140621273954" />
    <parent
      link="base_link" />
    <child
      link="shassi_l" />
    <axis
      xyz="0 0 1" />
  </joint>
</robot>
